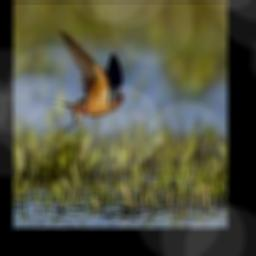Swallow: (40, 30, 124, 133)
